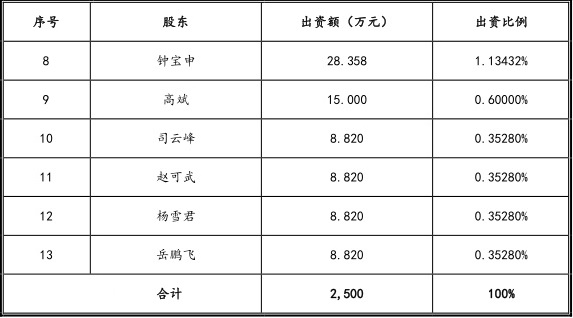column: (300, 1, 386, 318), (475, 1, 528, 313), (156, 1, 196, 318), (33, 1, 60, 318)
row: (2, 15, 571, 28), (2, 55, 573, 67), (2, 171, 573, 183), (4, 132, 573, 144), (1, 94, 573, 105), (1, 210, 573, 221), (1, 248, 572, 259), (2, 287, 572, 298)
